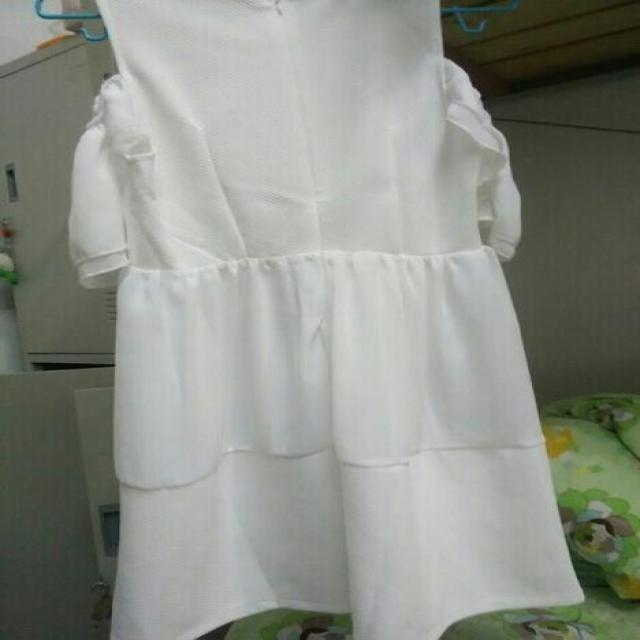short sleeve dress: (75, 2, 581, 639)
